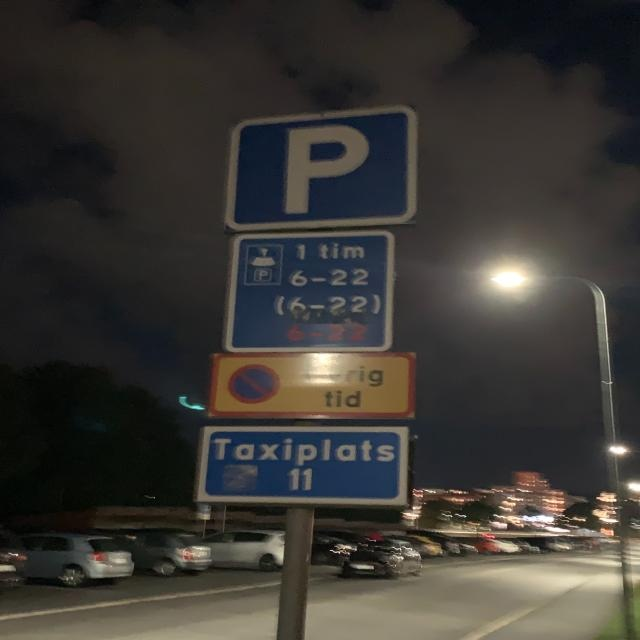lastplats: (221, 102, 419, 232)
